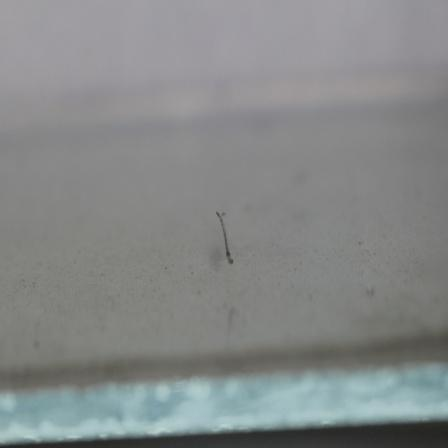Jentik-Nyamuk: (213, 208, 239, 272)
